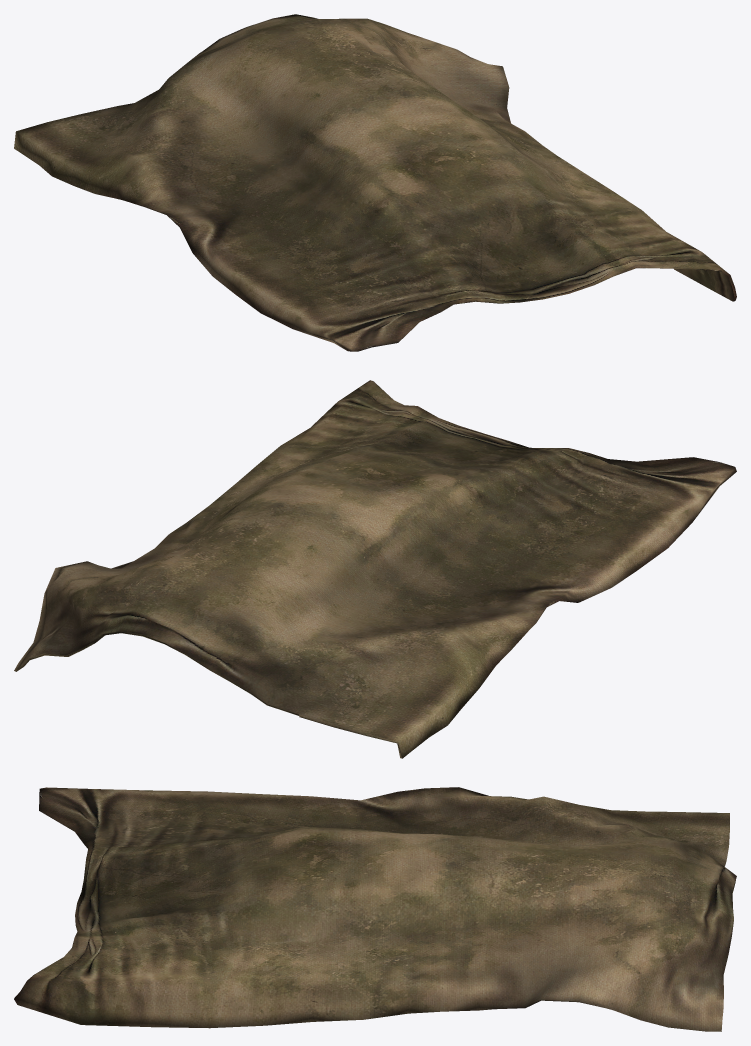
Rendered from bedsheet_old_corpse.dae.
The picture shows the model from 3 angles, top to bottom: view 1: azimuth 30°, elevation 25°; view 2: azimuth 150°, elevation 25°; view 3: azimuth 270°, elevation 25°; orthographic projection. The views are drawn at different scales.
Parts seen in each view (by area): view 1: polySurface1; view 2: polySurface1; view 3: polySurface1.
Part boxes in pixels (bbox=[...]): polySurface1: bbox=[14, 14, 736, 351]; polySurface1: bbox=[14, 380, 736, 758]; polySurface1: bbox=[14, 787, 736, 1031].
Bounding box in the file's own units: 1.61 × 0.3733 × 2.31.
